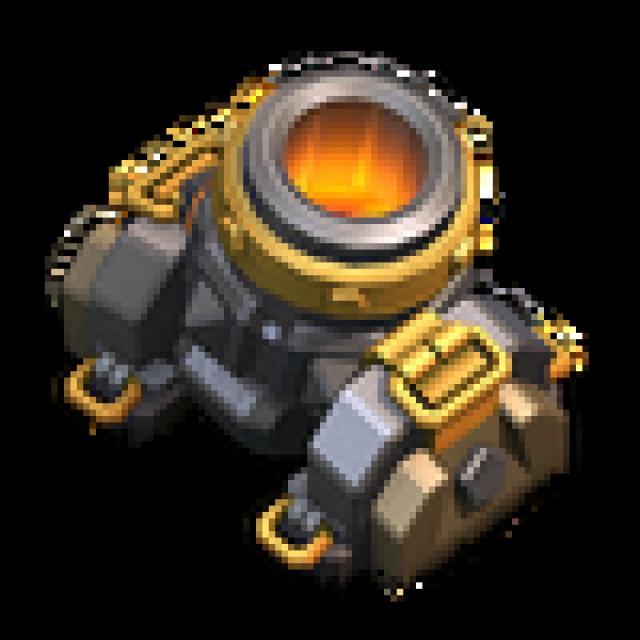mortar: (39, 43, 615, 603)
